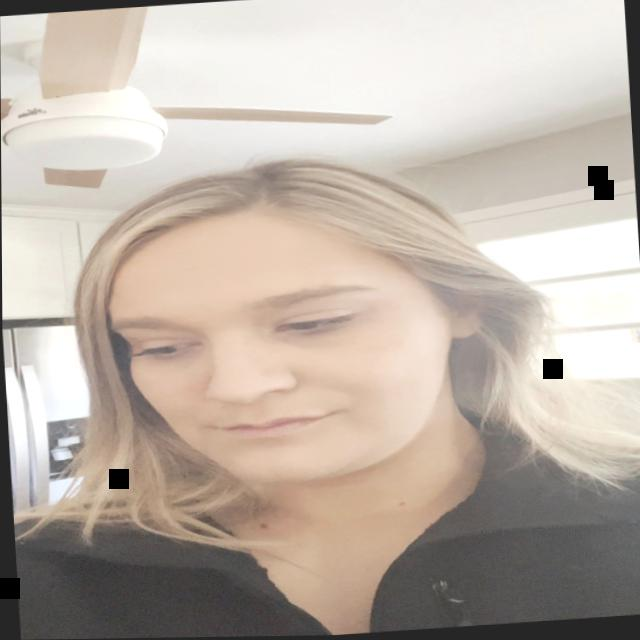NO-Mask: (87, 176, 505, 539)
